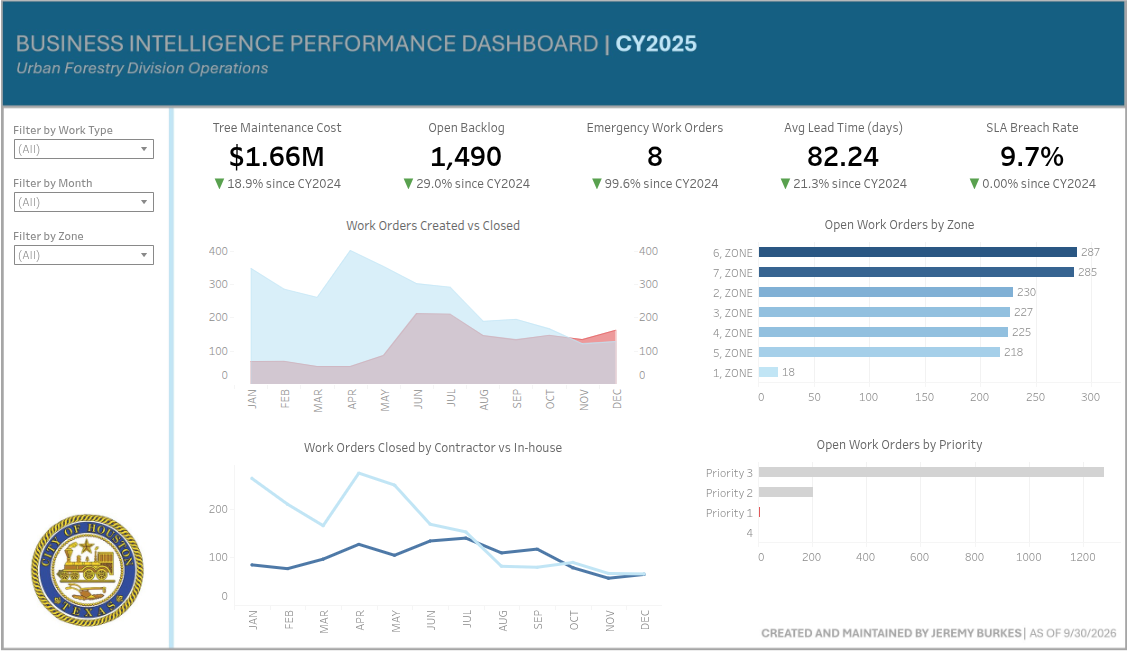

The page's visual inventory and layout, read from the dashboard file:
{"tool":"tableau","page":{"name":"Dashboard - Overview","canvas":[1150,700],"ordinal":0},"visuals":[{"type":"image","param":"Image/Dashboard Background - Operational Efficiency.jpg","box":[8,8,1134,684]},{"type":"worksheet","title":"BAN - Maintenance Cost","mark":"Automatic","box":[194,139,188.8,91]},{"type":"worksheet","title":"BAN - Backlog","mark":"Automatic","box":[382.8,139,188.8,91]},{"type":"worksheet","title":"BAN - Emergency Work Orders","mark":"Automatic","box":[571.6,139,188.8,91]},{"type":"worksheet","title":"BAN - Avg Lead Time","mark":"Text","box":[760.4,139,188.8,91]},{"type":"worksheet","title":"BAN - SLA Rate","mark":"Text","box":[949.2,139,188.8,91]},{"type":"filter","title":"Open WOs by Priority","param":"[federated.1rarvbw0iexmec1gmkcds04p2h4l].[none:description:nk]","box":[20,143,150,53]},{"type":"filter","title":"WOs Closed by Contractor vs In-house","param":"[federated.1rarvbw0iexmec1gmkcds04p2h4l].[none:month_name:nk]","box":[20,196,150,53]},{"type":"worksheet","title":"Open WOs by Zone","mark":"Bar","rows":["zone"],"cols":["workorder_id"],"box":[685,230,451,220]},{"type":"worksheet","title":"WOs Created vs Closed","mark":"Area","rows":["Calculation_0014688722288652","Calculation_0014688721760267"],"cols":["month_name"],"box":[211,231,466,222]},{"type":"filter","title":"Open WOs by Zone","param":"[federated.1rarvbw0iexmec1gmkcds04p2h4l].[none:zone:nk]","box":[20,249,150,53]},{"type":"worksheet","title":"Open WOs by Priority","mark":"Bar","rows":["priority_id (dim_priority.csv)"],"cols":["workorder_id"],"box":[685,450,451,158]},{"type":"worksheet","title":"WOs Closed by Contractor vs In-house","mark":"Line","rows":["Calculation_0014688721760267"],"cols":["month_name"],"box":[211,453,466,221]}]}

Visuals, with their boxes on the page's 1150x700 design canvas (x1, y1, x2, y2). These are canvas units, not pixel positions in the 1129x653 screenshot, which may show the page scaled, cropped or inside an application window:
image: 8 8 1142 692
"BAN - Maintenance Cost" worksheet: 194 139 383 230
"BAN - Backlog" worksheet: 383 139 572 230
"BAN - Emergency Work Orders" worksheet: 572 139 760 230
"BAN - Avg Lead Time" worksheet (Text marks): 760 139 949 230
"BAN - SLA Rate" worksheet (Text marks): 949 139 1138 230
"Open WOs by Priority" filter: 20 143 170 196
"WOs Closed by Contractor vs In-house" filter: 20 196 170 249
"Open WOs by Zone" worksheet (Bar marks): 685 230 1136 450
"WOs Created vs Closed" worksheet (Area marks): 211 231 677 453
"Open WOs by Zone" filter: 20 249 170 302
"Open WOs by Priority" worksheet (Bar marks): 685 450 1136 608
"WOs Closed by Contractor vs In-house" worksheet (Line marks): 211 453 677 674
